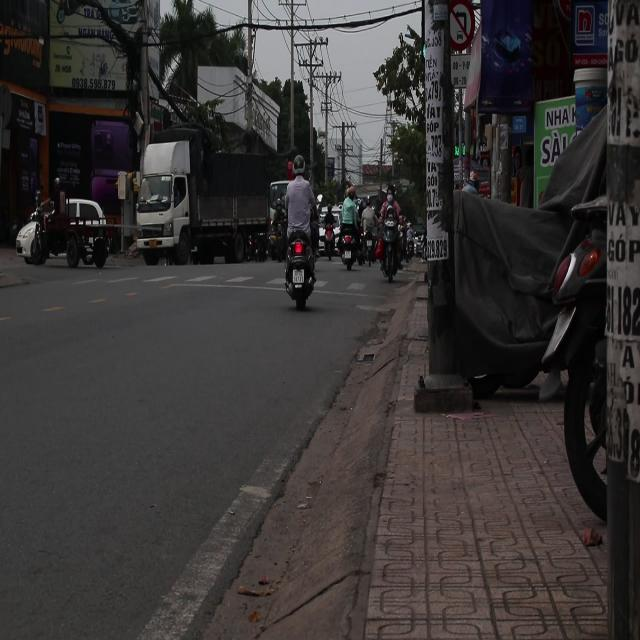car: (14, 186, 112, 288)
motorbike: (282, 212, 319, 311), (374, 198, 408, 296), (336, 223, 364, 269), (323, 222, 337, 260)
truck: (134, 125, 272, 266)
